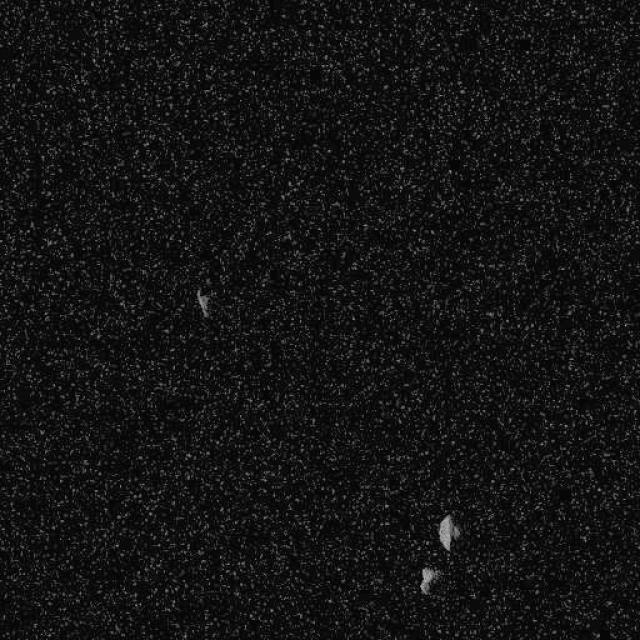D2: (436, 512, 456, 552), (417, 565, 435, 595), (195, 286, 211, 319)
